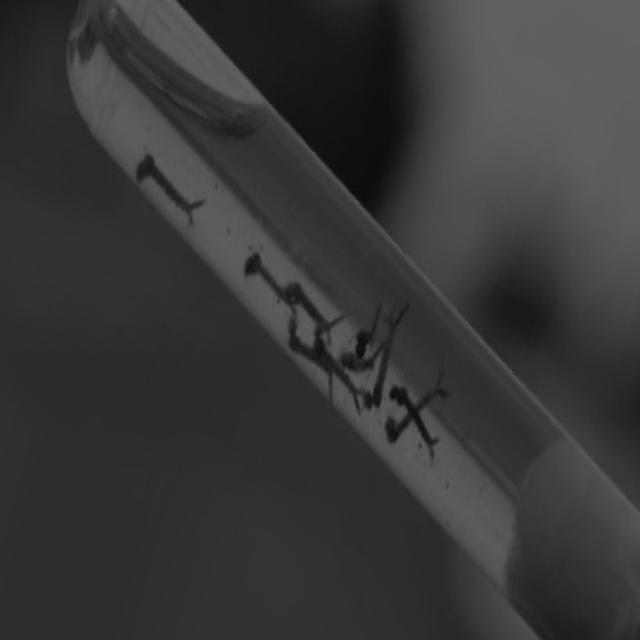larvas: (137, 150, 208, 228), (381, 373, 450, 450), (241, 249, 298, 324), (391, 379, 439, 459), (283, 273, 339, 340), (314, 338, 361, 402), (373, 314, 399, 407), (286, 331, 329, 372), (356, 310, 379, 352), (340, 350, 373, 370)
